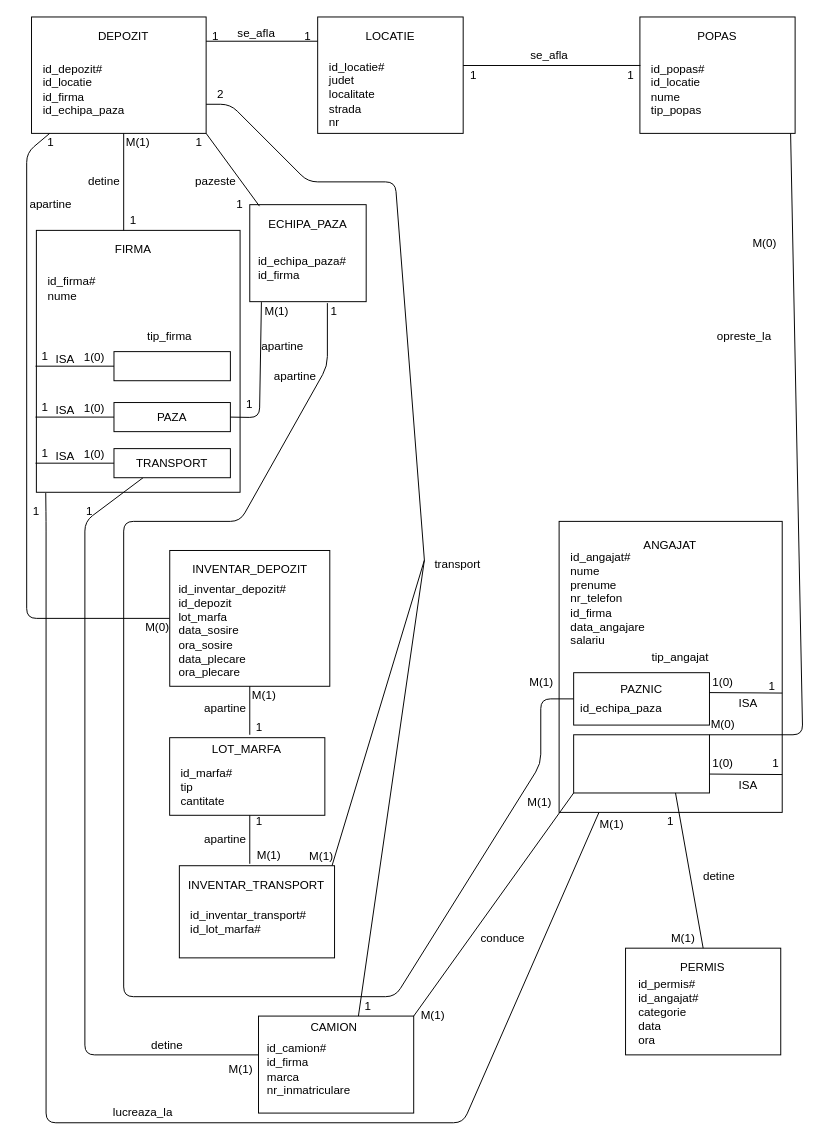
This 821x1141 diagram has some shape labels left out. The centre of each missing label's shape, as x and y in pixels:
"CLIENT" belongs at (171,366).
"SOFER" belongs at (641,763).
